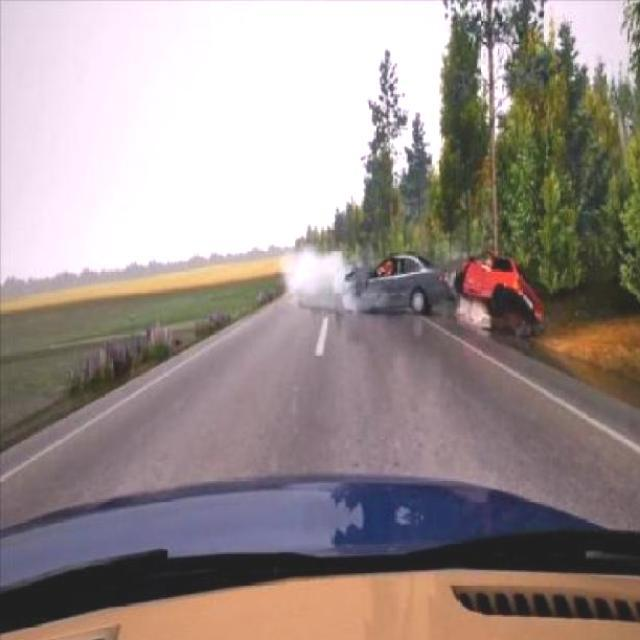accident: (316, 233, 556, 329)
